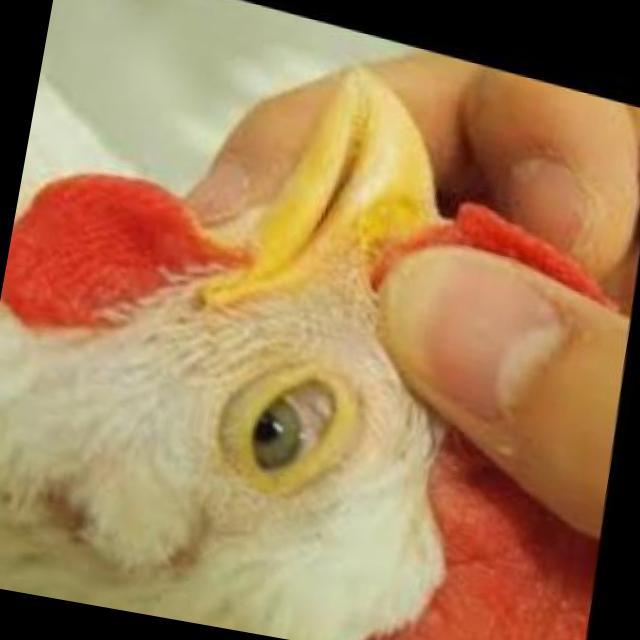Coryza: (196, 328, 367, 518)
